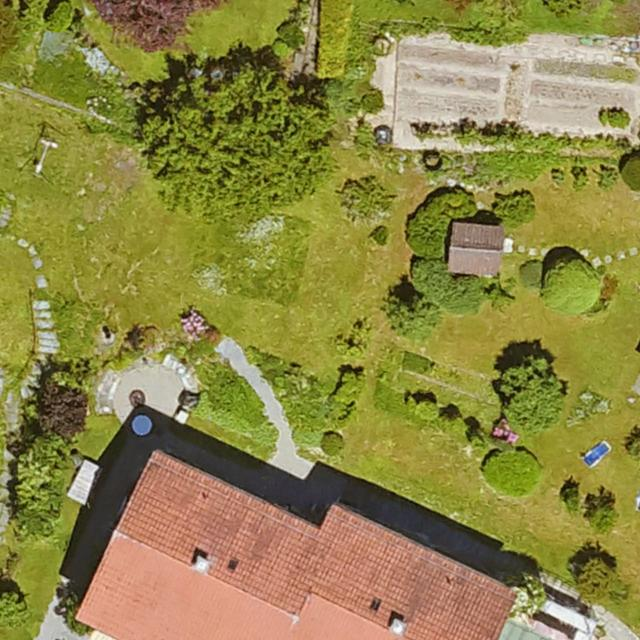tree: (150, 62, 325, 212), (100, 0, 219, 53), (500, 353, 564, 423), (571, 554, 616, 597)
